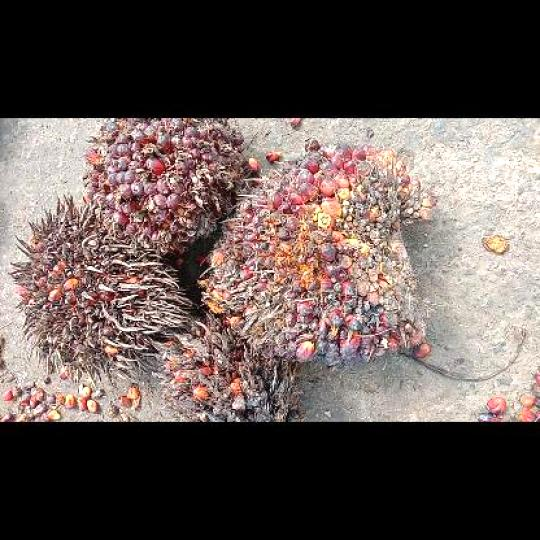masak: (200, 143, 436, 363), (84, 118, 250, 253)
terlalu masak: (7, 192, 190, 387), (152, 312, 300, 421)
